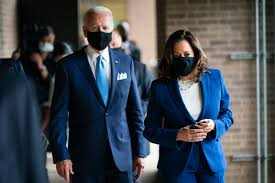mask: (88, 31, 112, 50), (171, 56, 195, 75)
